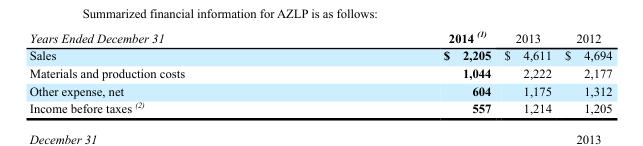table: (28, 28, 611, 115)
table column: (28, 28, 313, 115), (313, 28, 496, 115), (496, 28, 557, 115), (557, 28, 611, 115)
table column header: (28, 28, 611, 46)
table row: (28, 28, 611, 46), (28, 63, 611, 81), (28, 46, 611, 63), (28, 81, 611, 98), (28, 98, 611, 115)
